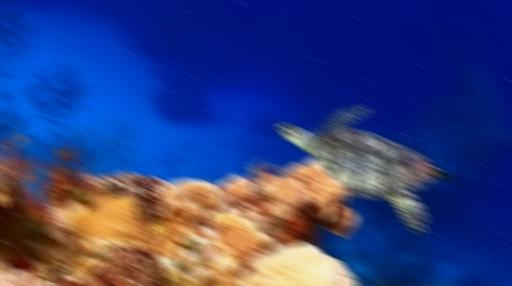Fish: (277, 105, 450, 232)
